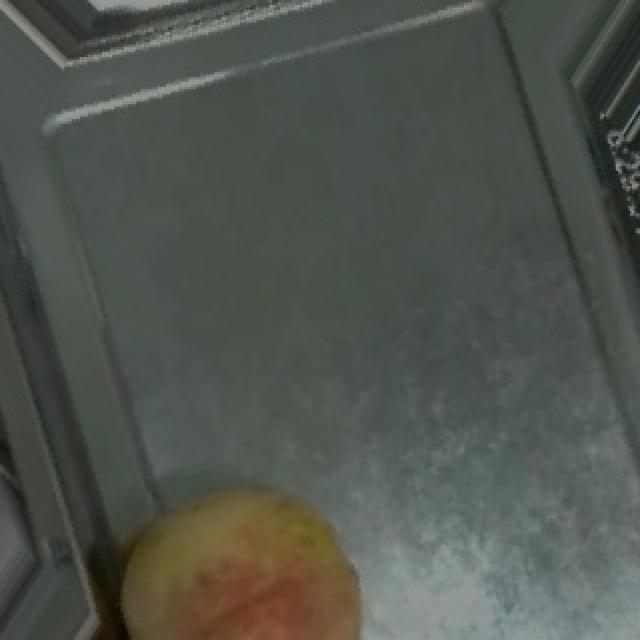Fruit: (88, 446, 392, 640)
